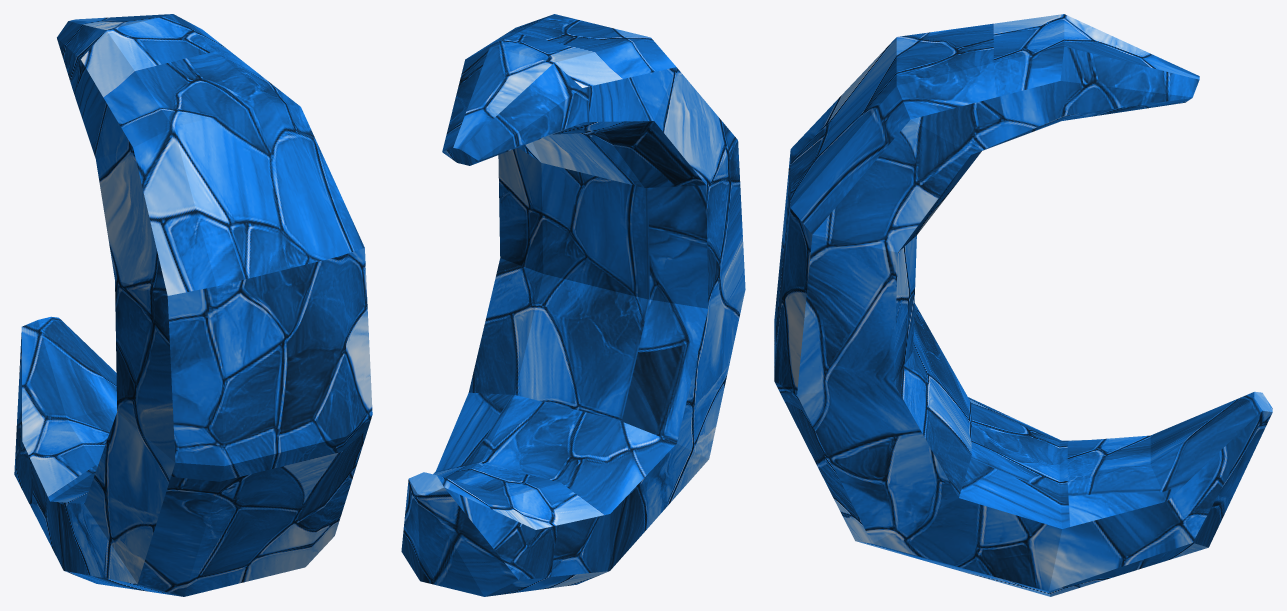
The model's file is gemstone9Blue.glb.
3 views of the same model, side by side, from view 1: azimuth 30°, elevation 25°; view 2: azimuth 150°, elevation 25°; view 3: azimuth 270°, elevation 25° (orthographic). The views are drawn at different scales.
Parts seen in each view (by area): view 1: gemstoneMoon; view 2: gemstoneMoon; view 3: gemstoneMoon.
Part boxes in pixels (x1=…): gemstoneMoon: x1=14, y1=14, x2=372, y2=596; gemstoneMoon: x1=401, y1=14, x2=745, y2=596; gemstoneMoon: x1=774, y1=14, x2=1272, y2=596.
Size of the model in its own units: 0.5 by 1.2 by 1.
1 material, 1 textured.
